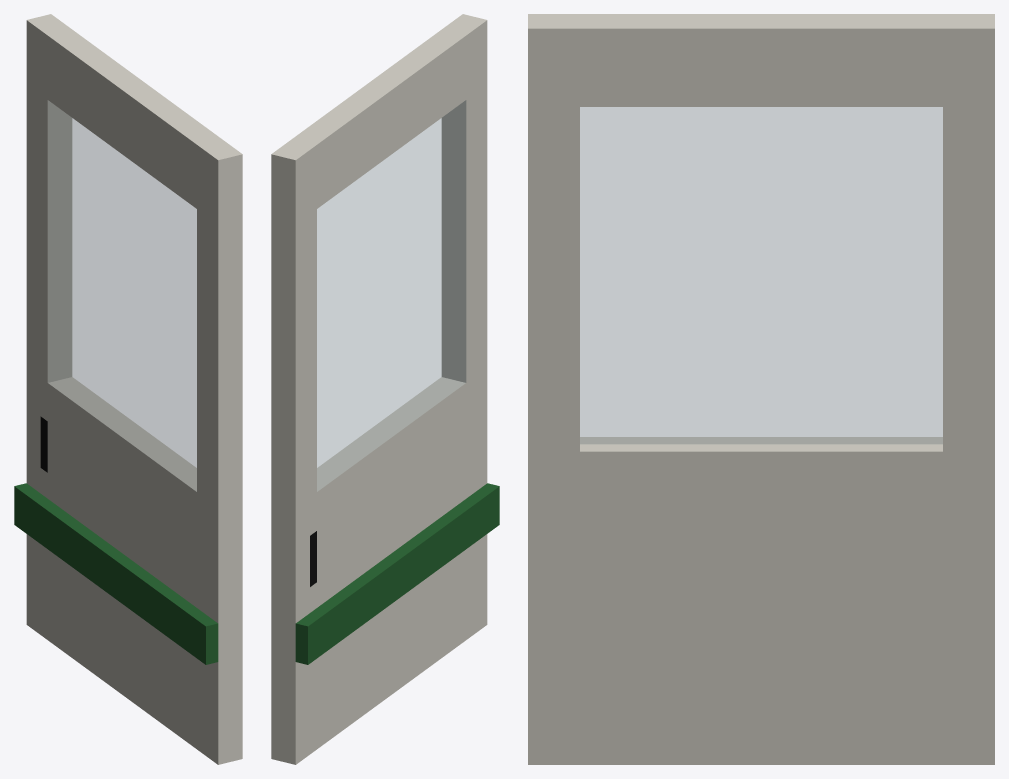
Rendered from minibus_rear_door.glb.
The picture shows the model from 3 angles, left to right: view 1: azimuth 30°, elevation 25°; view 2: azimuth 150°, elevation 25°; view 3: azimuth 270°, elevation 25°; orthographic projection. The views are drawn at different scales.
Visible parts, largest first — view 1: body:compound; view 2: body:compound; view 3: body:compound.
Part boxes in pixels (x1,y1,x2,y2): body:compound: (14,14,242,764); body:compound: (271,14,499,764); body:compound: (528,14,994,764).
Bounding box in the file's own units: 0.0938 × 1.47 × 0.8438.
